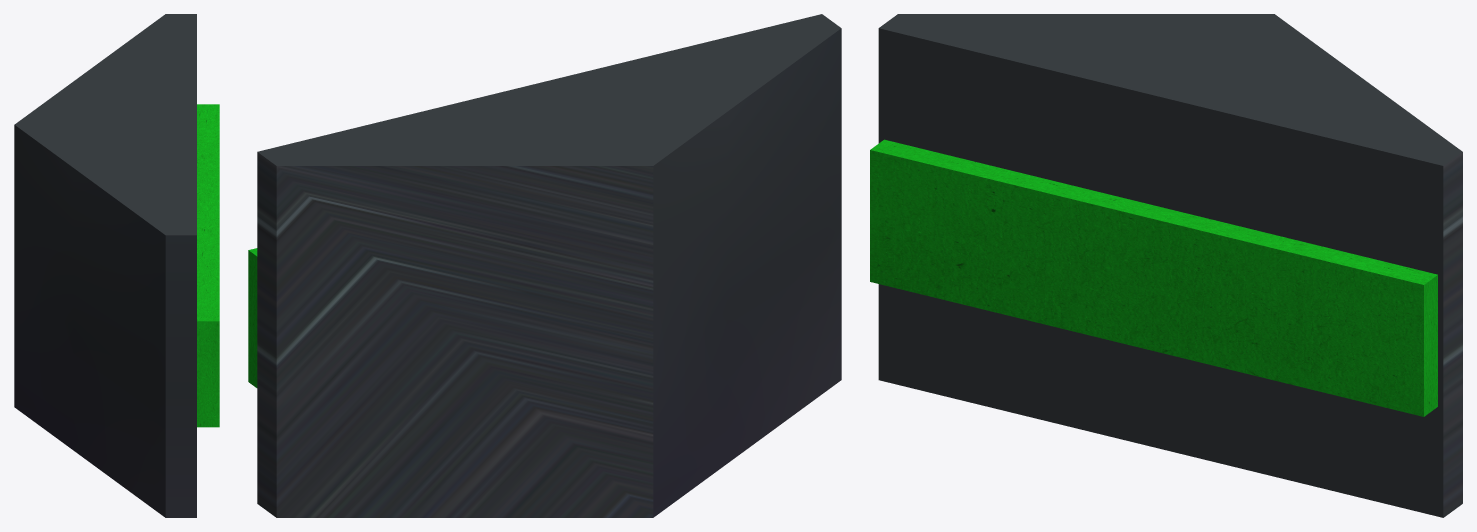
Rendered from TriangleBumperRight.obj.
The picture shows the model from 3 angles, left to right: view 1: azimuth 30°, elevation 25°; view 2: azimuth 150°, elevation 25°; view 3: azimuth 270°, elevation 25°; orthographic projection. The views are drawn at different scales.
Parts seen in each view (by area): view 1: TriangleBumper.001_Cube.040, FlipBumper.001_Cube.005; view 2: TriangleBumper.001_Cube.040, FlipBumper.001_Cube.005; view 3: TriangleBumper.001_Cube.040, FlipBumper.001_Cube.005.
Boxes of the visible parts, x1,y1,x2,y2 form: TriangleBumper.001_Cube.040: (14, 14, 196, 517); FlipBumper.001_Cube.005: (197, 104, 219, 427); TriangleBumper.001_Cube.040: (257, 14, 841, 517); FlipBumper.001_Cube.005: (248, 248, 257, 387); TriangleBumper.001_Cube.040: (878, 14, 1462, 517); FlipBumper.001_Cube.005: (870, 139, 1437, 416).
Bounding box in the file's own units: 0.4907 × 0.5 × 0.7632.
2 materials, 2 textured.
